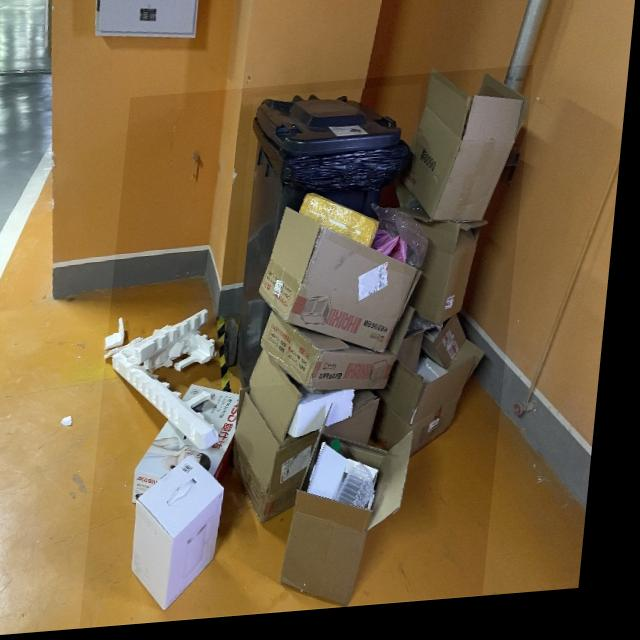garbage: (93, 74, 536, 630)
garbage_bin: (234, 91, 424, 394)
